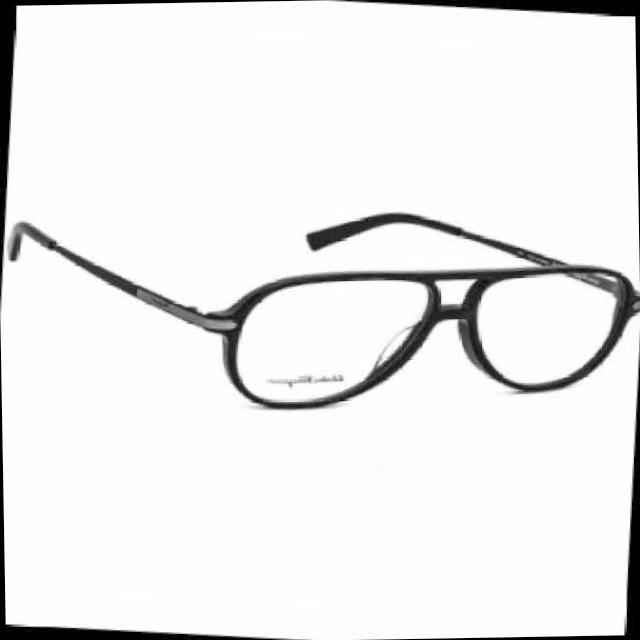glasses: (0, 177, 640, 441)
